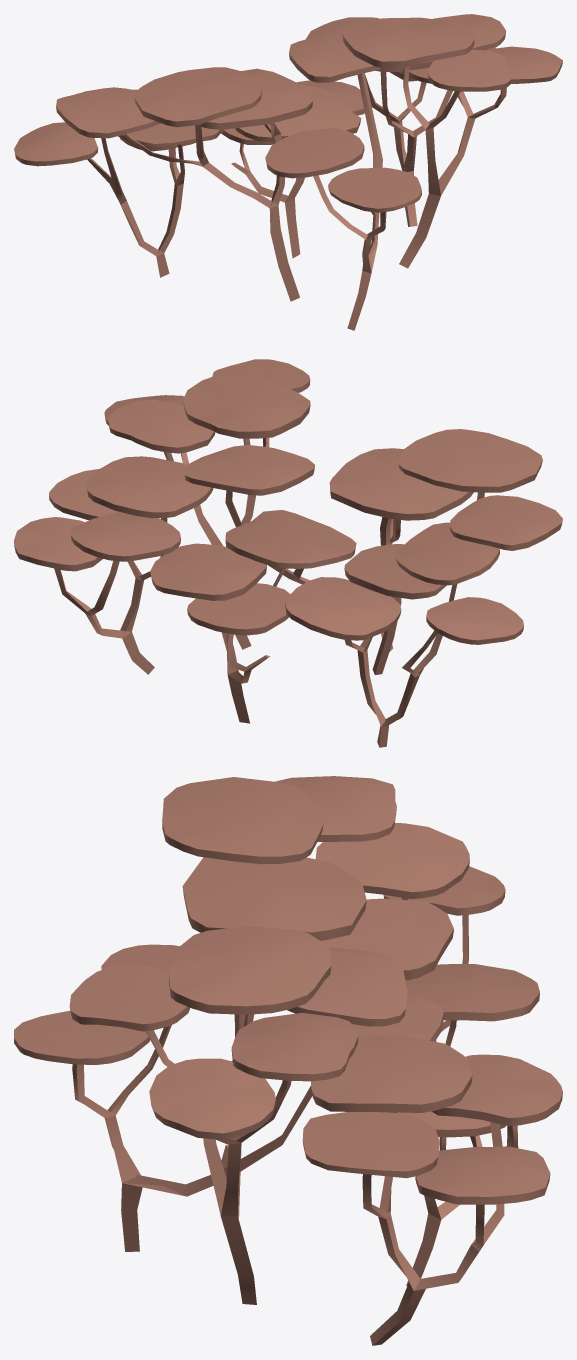
The model's file is coral_plates_A.fbx.
3 views of the same model, one above another, from view 1: azimuth 30°, elevation 25°; view 2: azimuth 150°, elevation 25°; view 3: azimuth 270°, elevation 25° (orthographic). The views are drawn at different scales.
Visible parts, largest first — view 1: coral_plates_A_B, coral_plates_A_A, coral_plates_A_D, coral_plates_A_F, coral_plates_A_E, coral_plates_A_C; view 2: coral_plates_A_B, coral_plates_A_F, coral_plates_A_C, coral_plates_A_E, coral_plates_A_A, coral_plates_A_D; view 3: coral_plates_A_A, coral_plates_A_C, coral_plates_A_B, coral_plates_A_F, coral_plates_A_D, coral_plates_A_E.
Part boxes in pixels (x1,y1,x2,y2): coral_plates_A_B: [56, 67, 312, 301]; coral_plates_A_A: [342, 14, 562, 268]; coral_plates_A_D: [265, 30, 421, 330]; coral_plates_A_F: [14, 89, 224, 277]; coral_plates_A_E: [221, 80, 364, 258]; coral_plates_A_C: [305, 17, 495, 226]; coral_plates_A_B: [329, 429, 562, 674]; coral_plates_A_F: [285, 522, 523, 747]; coral_plates_A_C: [14, 456, 213, 674]; coral_plates_A_E: [150, 510, 356, 723]; coral_plates_A_A: [104, 359, 310, 649]; coral_plates_A_D: [184, 445, 400, 651]; coral_plates_A_A: [69, 926, 358, 1304]; coral_plates_A_C: [302, 1035, 562, 1345]; coral_plates_A_B: [162, 776, 396, 1218]; coral_plates_A_F: [315, 823, 539, 1179]; coral_plates_A_D: [14, 944, 407, 1251]; coral_plates_A_E: [295, 993, 518, 1285].
Size of the model in its own units: 218 by 112 by 151.
